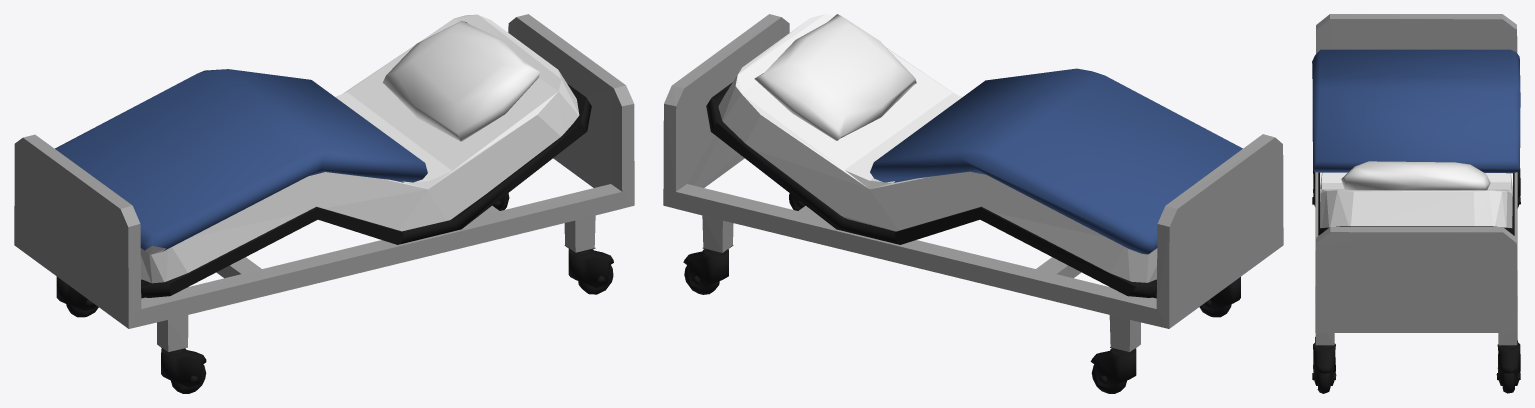
Rendered from hospital_bed_small.dae.
3 views of the same model, side by side, from view 1: azimuth 30°, elevation 25°; view 2: azimuth 150°, elevation 25°; view 3: azimuth 270°, elevation 25° (orthographic). The views are drawn at different scales.
Parts seen in each view (by area): view 1: Bed.001, comforter, Bed, pillow, frame, Tire; view 2: Bed.001, comforter, Bed, pillow, frame, Tire; view 3: Bed.001, comforter, Bed, pillow, Tire, frame.
Part boxes in pixels (x1,y1,x2,y2): Bed.001: (14,14,634,352); comforter: (55,69,427,251); Bed: (140,14,579,283); pillow: (382,20,539,141); frame: (141,83,591,298); Tire: (56,193,613,393); Bed.001: (663,14,1283,352); comforter: (870,68,1242,254); Bed: (718,14,1157,282); pillow: (754,14,916,140); frame: (706,82,1156,298); Tire: (683,193,1240,393); Bed.001: (1315,14,1517,345); comforter: (1312,49,1520,173); Bed: (1320,172,1512,228); pillow: (1341,161,1490,190); Tire: (1312,168,1520,393); frame: (1318,172,1514,235).
Bounding box in the file's own units: 2.1 × 0.8467 × 0.9096.
